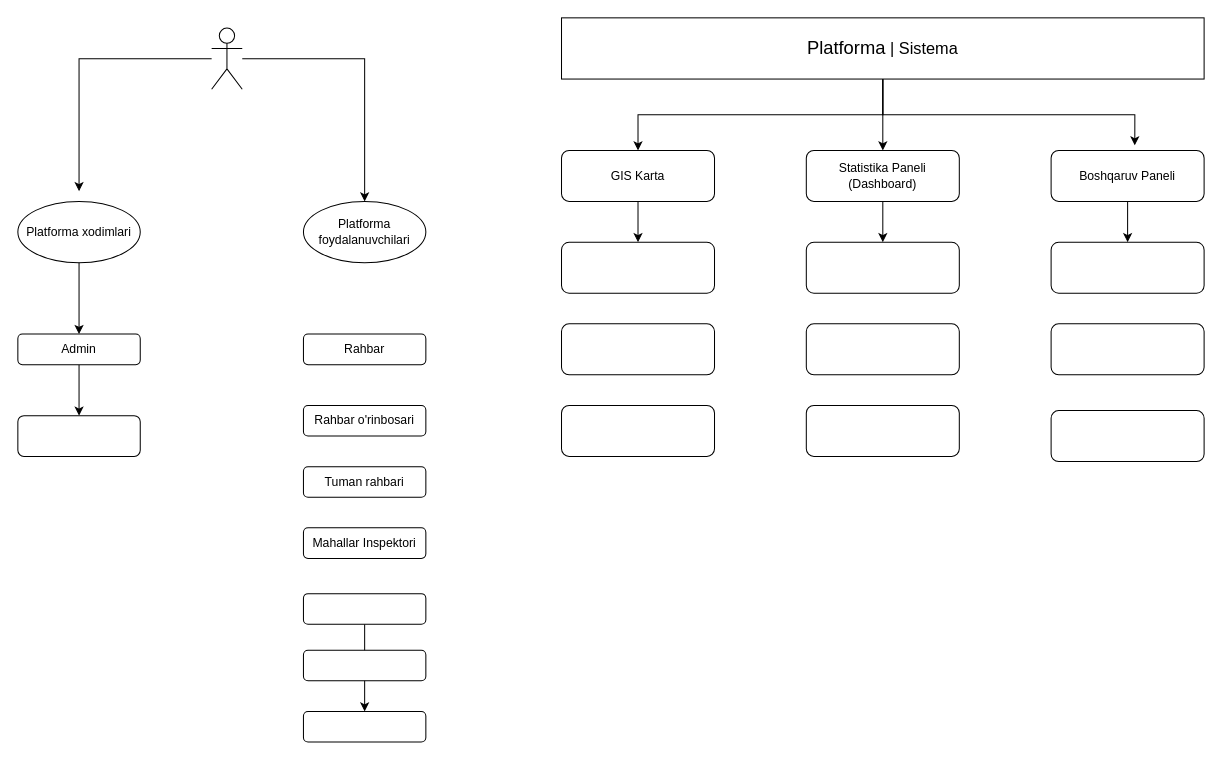
The diagram is 1222 pixels wide and 760 high, and some of its shapes have lost their labels. The shapes that lost their labels are listed below. From the top down, each one's box as (x1, y1, x2, y2) in pixels, then its label:
(211, 27, 242, 89): Foydalanuvchi Turlari
(560, 241, 715, 293): Visual boshqaruv
(805, 241, 959, 293): Kunlik statistika
(1050, 241, 1204, 293): Foydalanuvchilar boshqaruvi
(17, 415, 140, 456): Moderator
